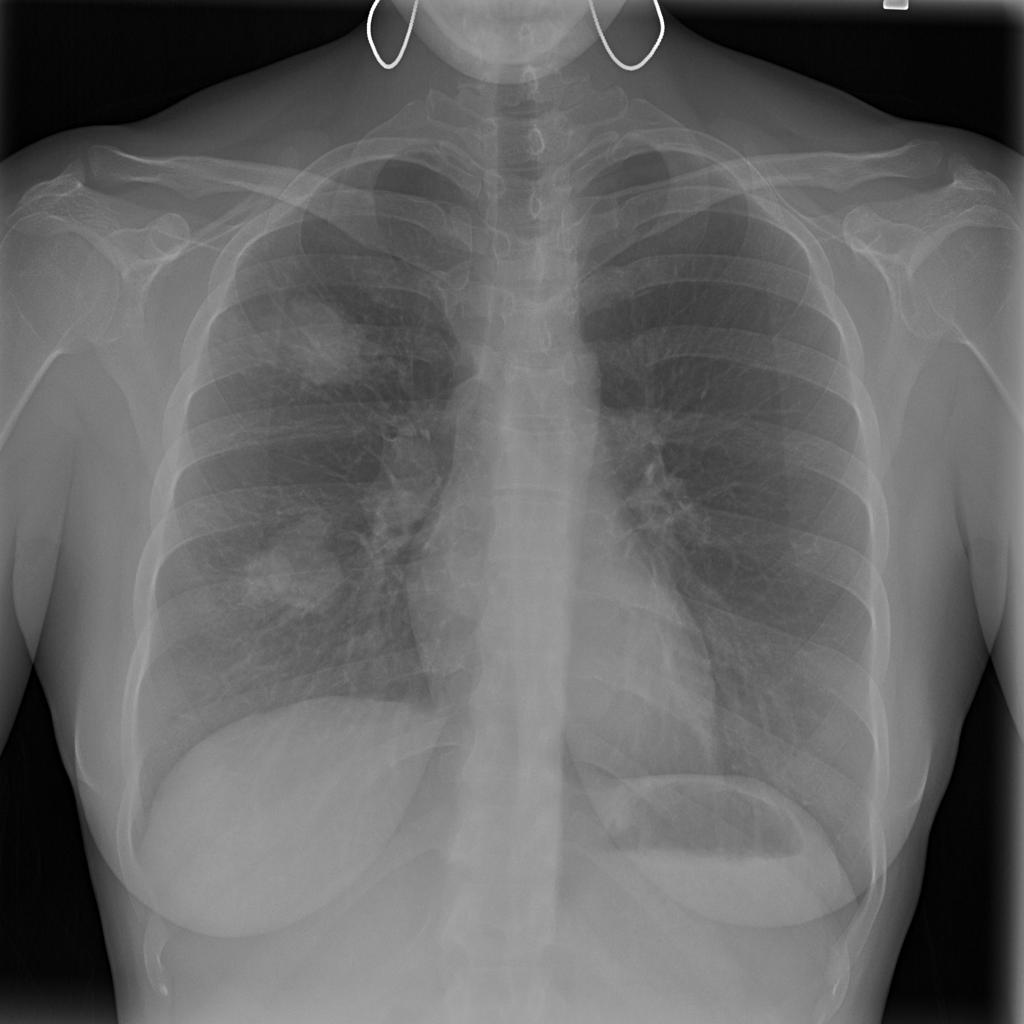nodule: (250, 278, 383, 399), (238, 527, 362, 628), (349, 427, 452, 543)
